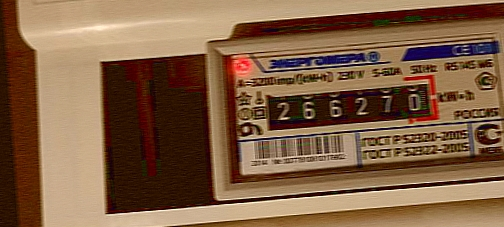0: (405, 90, 419, 112)
2: (274, 99, 289, 121), (352, 94, 366, 116)
6: (300, 99, 314, 120), (326, 97, 340, 117)
7: (377, 92, 392, 114)
screen: (253, 70, 444, 140)
